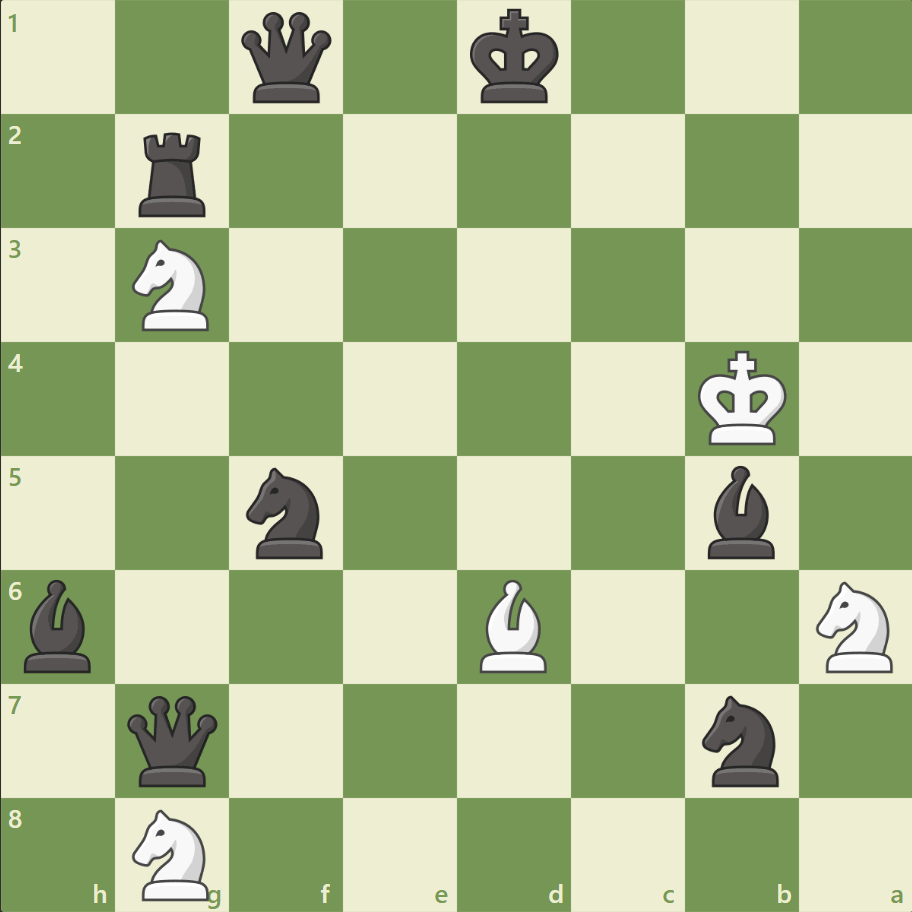B: (471, 574, 555, 676)
K: (692, 344, 792, 452)
N: (124, 234, 222, 337), (124, 802, 222, 904), (806, 575, 903, 677)
b: (698, 460, 782, 563), (17, 574, 101, 676)
k: (465, 4, 565, 112)
n: (692, 688, 789, 791), (238, 461, 335, 564)
q: (124, 690, 223, 789), (237, 9, 336, 108)
r: (133, 125, 215, 222)
